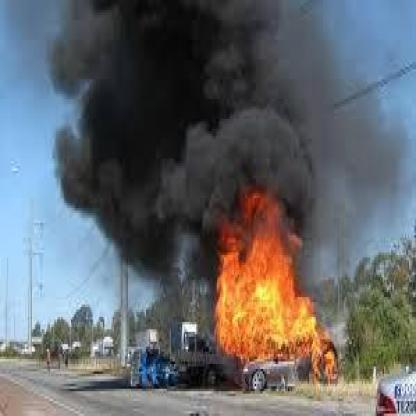fire: (209, 194, 335, 386)
smoke: (47, 0, 338, 245)
